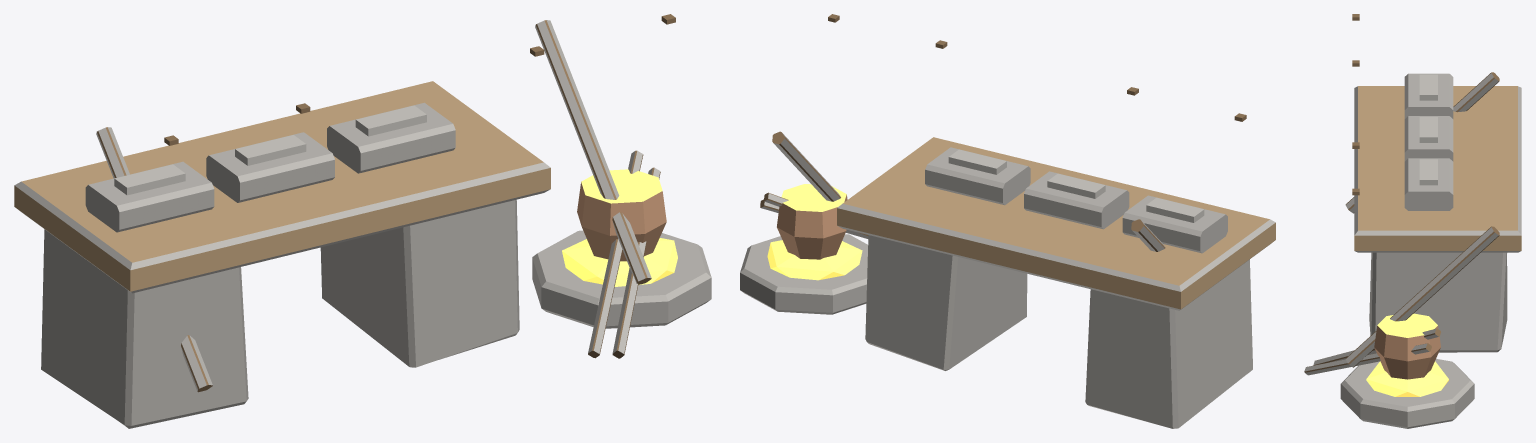
The model's file is casting_bench.glb.
The picture shows the model from 3 angles, left to right: view 1: azimuth 30°, elevation 25°; view 2: azimuth 150°, elevation 25°; view 3: azimuth 270°, elevation 25°; orthographic projection. The views are drawn at different scales.
Parts seen in each view (by area): view 1: casting_bench; view 2: casting_bench; view 3: casting_bench.
Part boxes in pixels (x1,y1,x2,y2): casting_bench: (14,14,711,428); casting_bench: (740,14,1275,428); casting_bench: (1304,14,1521,428).
Bounding box in the file's own units: 1.66 × 0.784 × 0.715.
